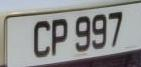7: (108, 8, 126, 51)
9: (91, 9, 109, 55), (73, 14, 93, 53)
C: (29, 17, 52, 60)
P: (49, 16, 69, 58)
